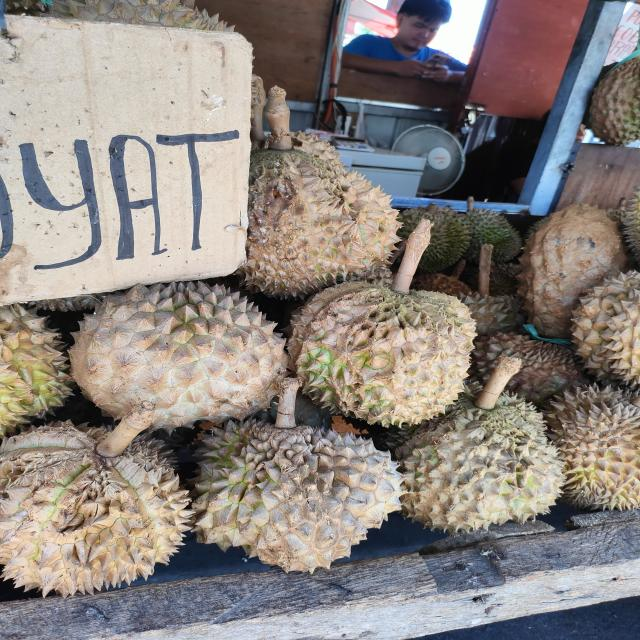mature: (67, 274, 292, 436), (2, 419, 198, 600), (194, 418, 408, 576), (378, 377, 570, 539), (281, 273, 476, 426), (221, 143, 404, 300), (513, 198, 632, 336)
